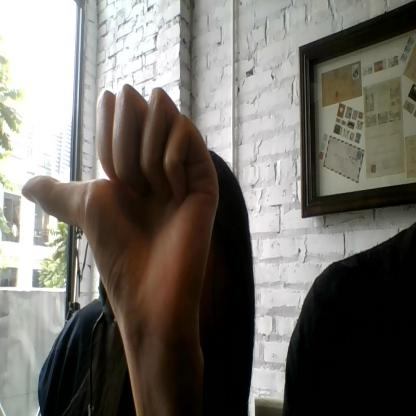right: (21, 85, 219, 348)
